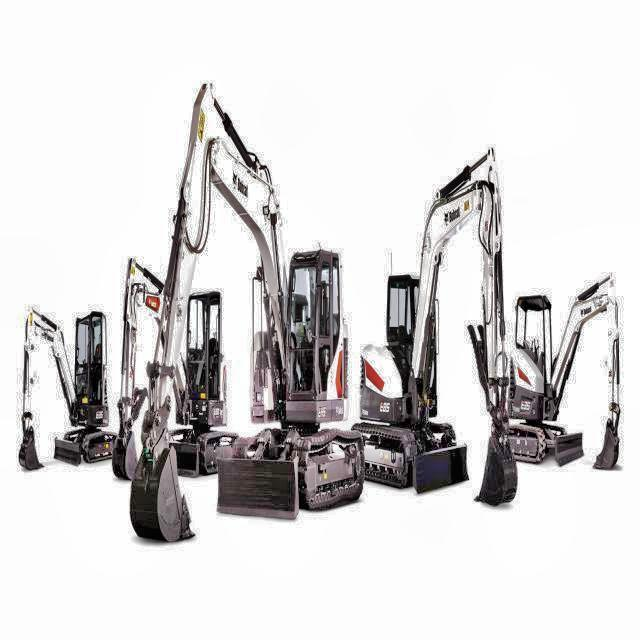excavator: (128, 79, 368, 546), (348, 148, 518, 511), (108, 259, 236, 483), (508, 268, 626, 473), (15, 306, 120, 474)
